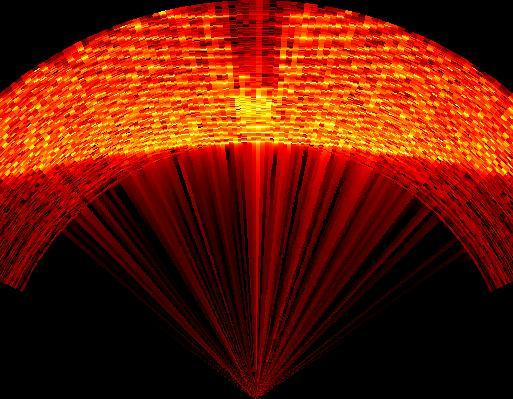box_crate: (228, 0, 289, 104)
